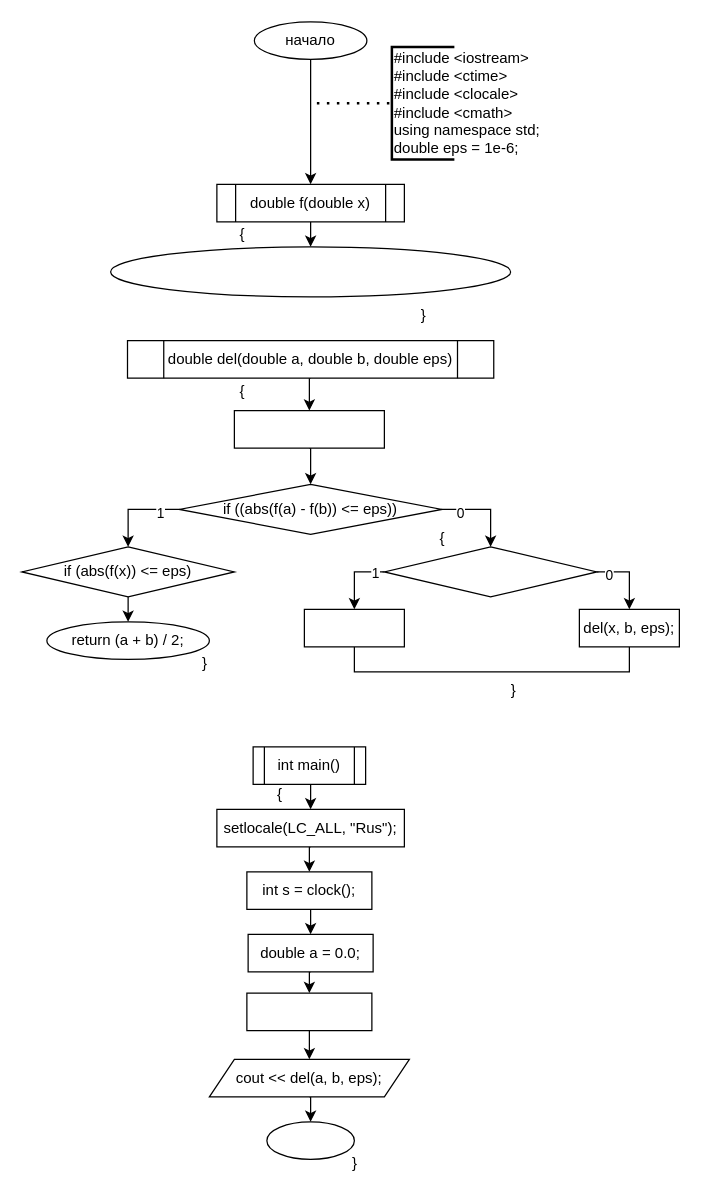
The diagram is 701 pixels wide and 1204 high, and some of its shapes have lost their labels. The centre of each missing label's shape, as x and y in pixels:
"del(a, x, eps);" belongs at (x=353, y=627).
"double b = 0.9;" belongs at (x=309, y=1011).
"double x = (a + b) / 2;" belongs at (x=308, y=428).
"if (f(a) * f(x) <= 0.0)" belongs at (x=490, y=571).
"return 0;" belongs at (x=310, y=1140).
"return acos(x) - (pow(1 - (0.3 * (pow(x, 3))), 0.5));" belongs at (x=310, y=271).
